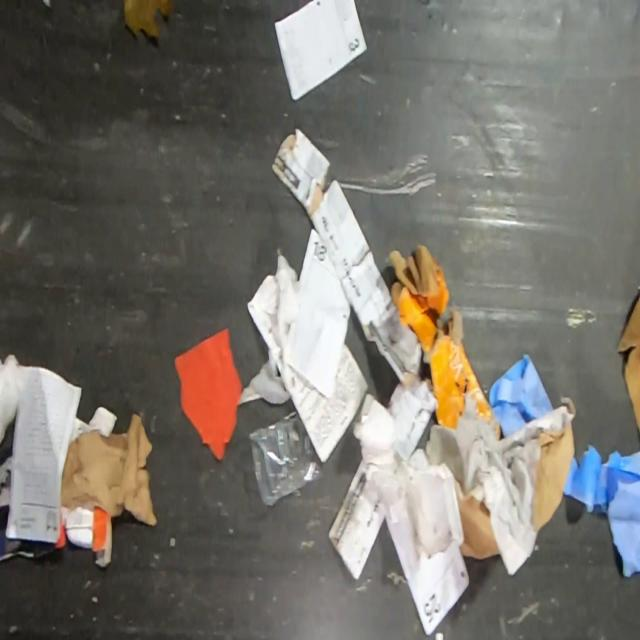cardboard: (425, 392, 575, 576), (385, 244, 501, 439), (58, 412, 156, 524), (617, 292, 640, 443)
rigid_plastic: (248, 410, 321, 507)
